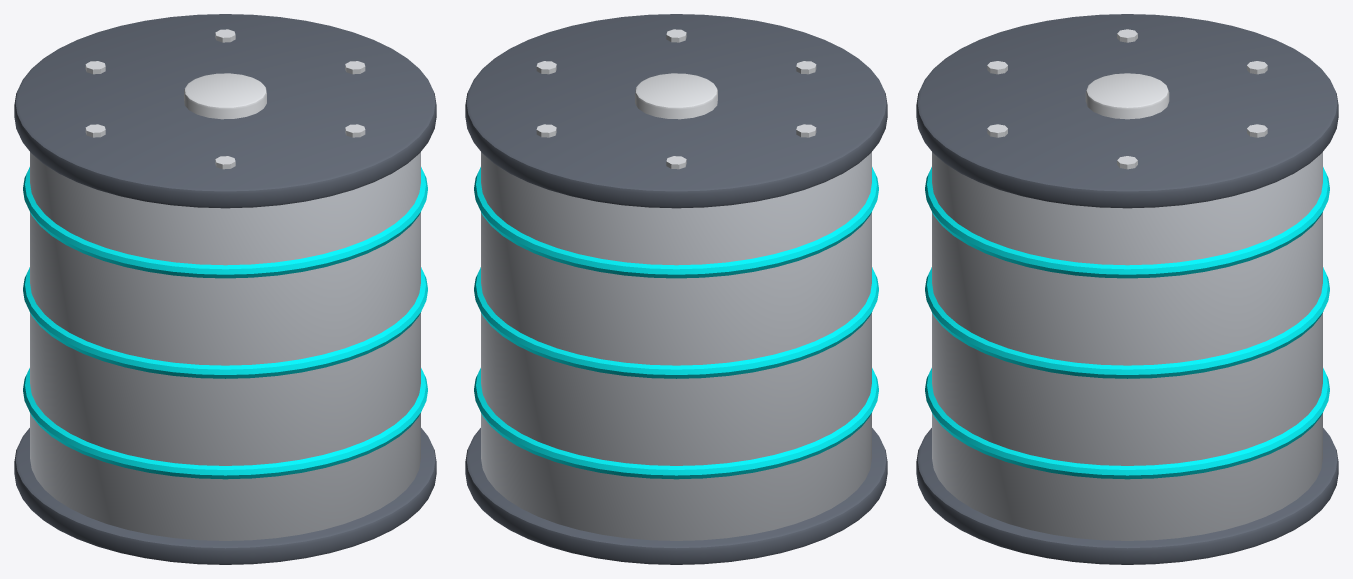
File: flow_cylinder.glb
3 renders of one model, left to right at view 1: azimuth 30°, elevation 25°; view 2: azimuth 150°, elevation 25°; view 3: azimuth 270°, elevation 25°, orthographic.
Parts seen in each view (by area): view 1: Cylinder; view 2: Cylinder; view 3: Cylinder.
Part boxes in pixels (x1,y1,x2,y2): Cylinder: (14, 14, 436, 564); Cylinder: (465, 14, 887, 564); Cylinder: (916, 14, 1338, 564).
Bounding box in the file's own units: 3.24 × 3.38 × 3.24.
